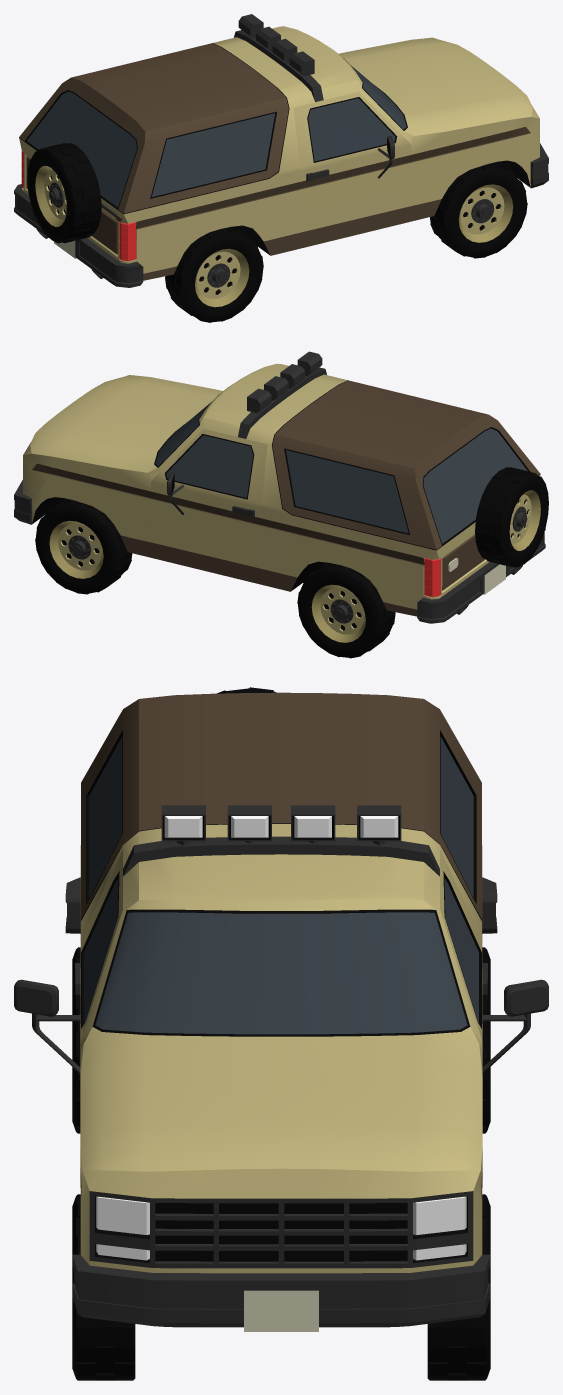
File: vehicle.dae
3 views of the same model, one above another, from view 1: azimuth 30°, elevation 25°; view 2: azimuth 150°, elevation 25°; view 3: azimuth 270°, elevation 25° (orthographic). The views are drawn at different scales.
Visible parts, largest first — view 1: bronco_black_0; view 2: bronco_black_0; view 3: bronco_black_0.
Boxes of the visible parts, x1=… form: bronco_black_0: x1=14, y1=14, x2=548, y2=322; bronco_black_0: x1=14, y1=351, x2=548, y2=658; bronco_black_0: x1=14, y1=687, x2=548, y2=1380.
Bounding box in the file's own units: 2.57 × 1.34 × 1.15.
